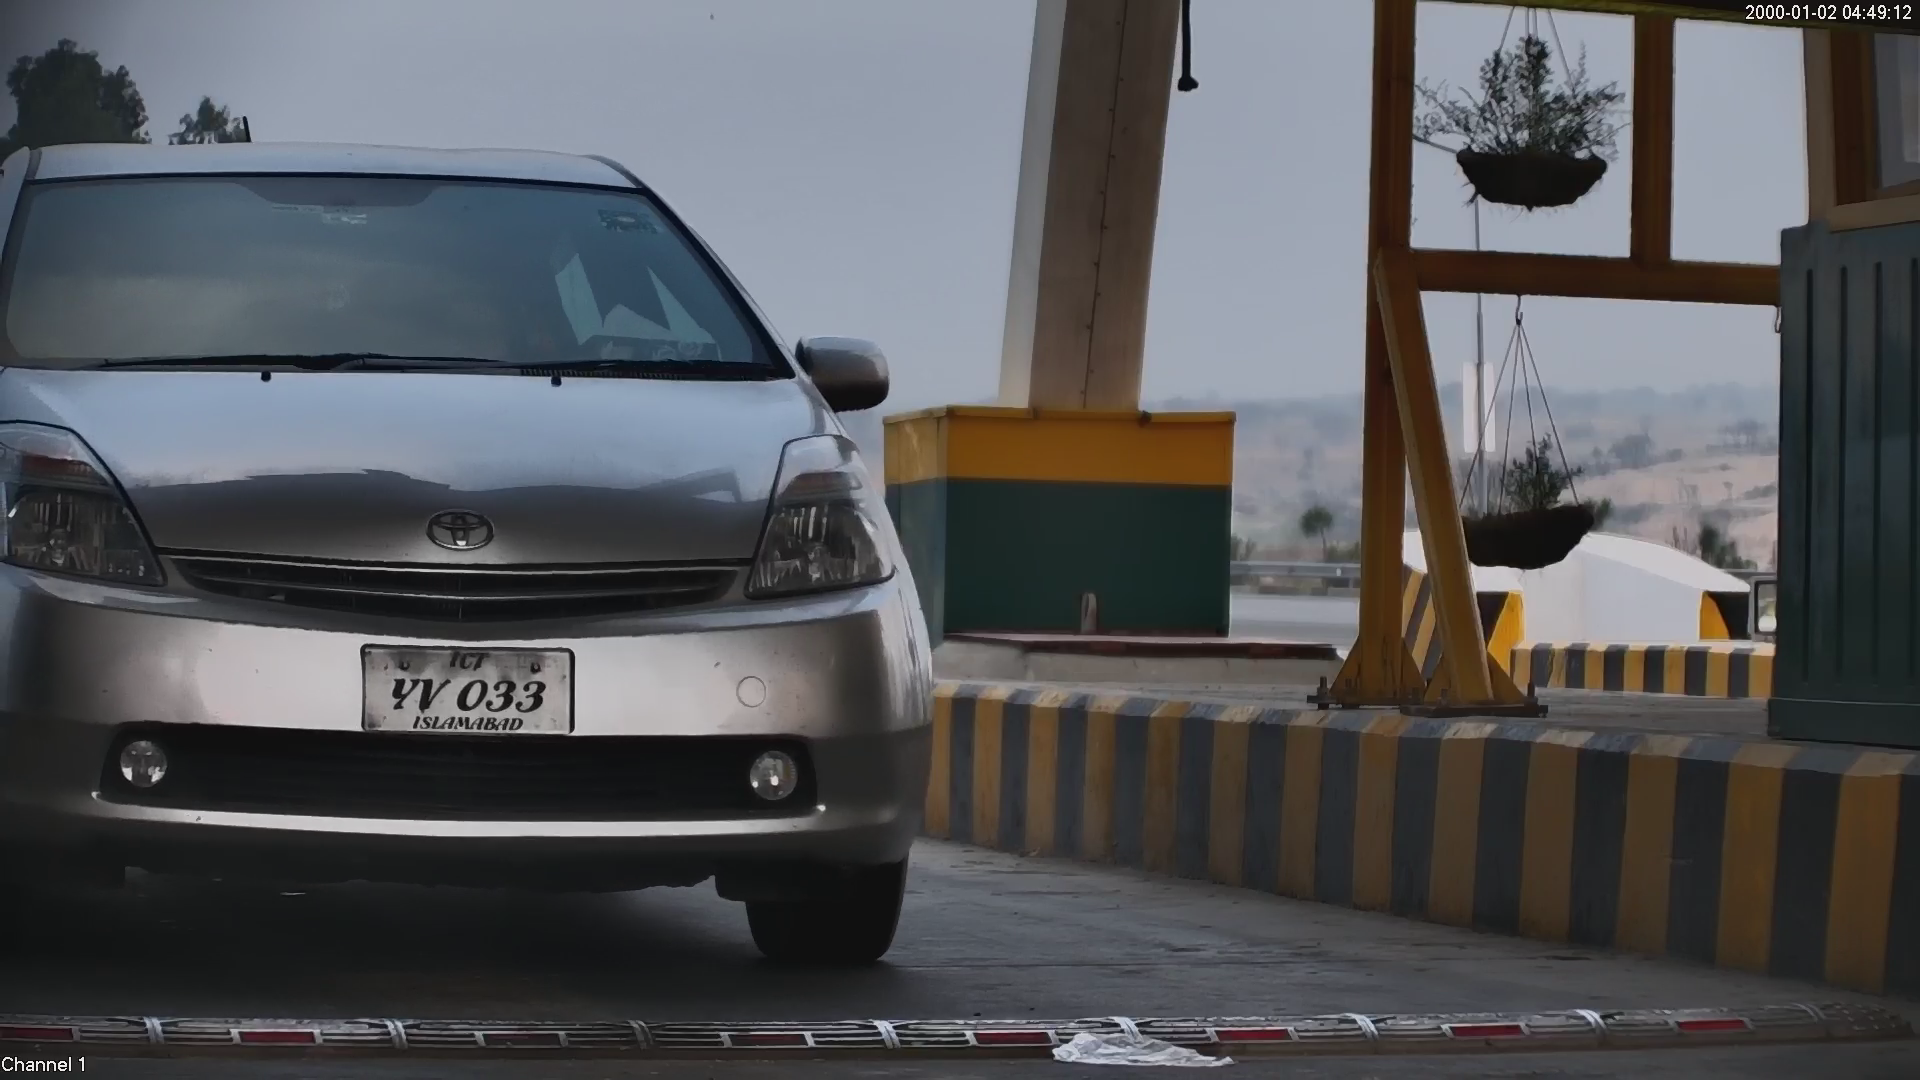Number_Plate: (349, 632, 587, 746)
